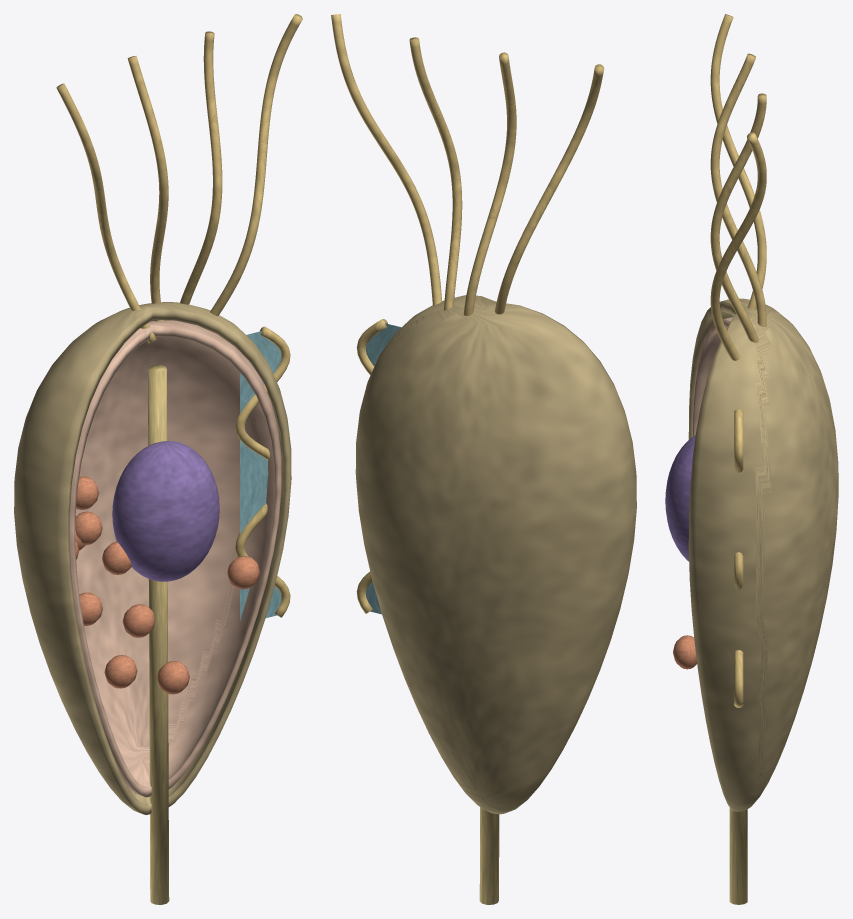
The model's file is cutaway.glb.
The picture shows the model from 3 angles, left to right: view 1: azimuth 30°, elevation 25°; view 2: azimuth 150°, elevation 25°; view 3: azimuth 270°, elevation 25°; orthographic projection. The views are drawn at different scales.
Parts seen in each view (by area): view 1: citoplasma_mesh, membrana_mesh, flagelo_mesh, nucleo_mesh, axostilo_mesh, hidrogenossomos_mesh, ondulante_mesh; view 2: membrana_mesh, flagelo_mesh, axostilo_mesh, ondulante_mesh; view 3: membrana_mesh, flagelo_mesh, nucleo_mesh, axostilo_mesh, citoplasma_mesh, hidrogenossomos_mesh.
Part boxes in pixels (left/top/right/bottom): citoplasma_mesh: left=69, top=320, right=281, bottom=797; membrana_mesh: left=14, top=302, right=291, bottom=814; flagelo_mesh: left=56, top=14, right=302, bottom=617; nucleo_mesh: left=112, top=441, right=219, bottom=581; axostilo_mesh: left=148, top=364, right=169, bottom=904; hidrogenossomos_mesh: left=75, top=476, right=259, bottom=694; ondulante_mesh: left=240, top=331, right=281, bottom=620; membrana_mesh: left=355, top=295, right=636, bottom=814; flagelo_mesh: left=331, top=14, right=604, bottom=613; axostilo_mesh: left=479, top=807, right=499, bottom=904; ondulante_mesh: left=365, top=323, right=401, bottom=614; membrana_mesh: left=688, top=298, right=838, bottom=811; flagelo_mesh: left=710, top=14, right=766, bottom=707; nucleo_mesh: left=665, top=435, right=695, bottom=561; axostilo_mesh: left=729, top=808, right=747, bottom=904; citoplasma_mesh: left=692, top=317, right=733, bottom=436; hidrogenossomos_mesh: left=673, top=635, right=697, bottom=669.
Bounding box in the file's own units: 1.24 × 3.52 × 0.6611.
Materials: 7 (7 with a texture image).
